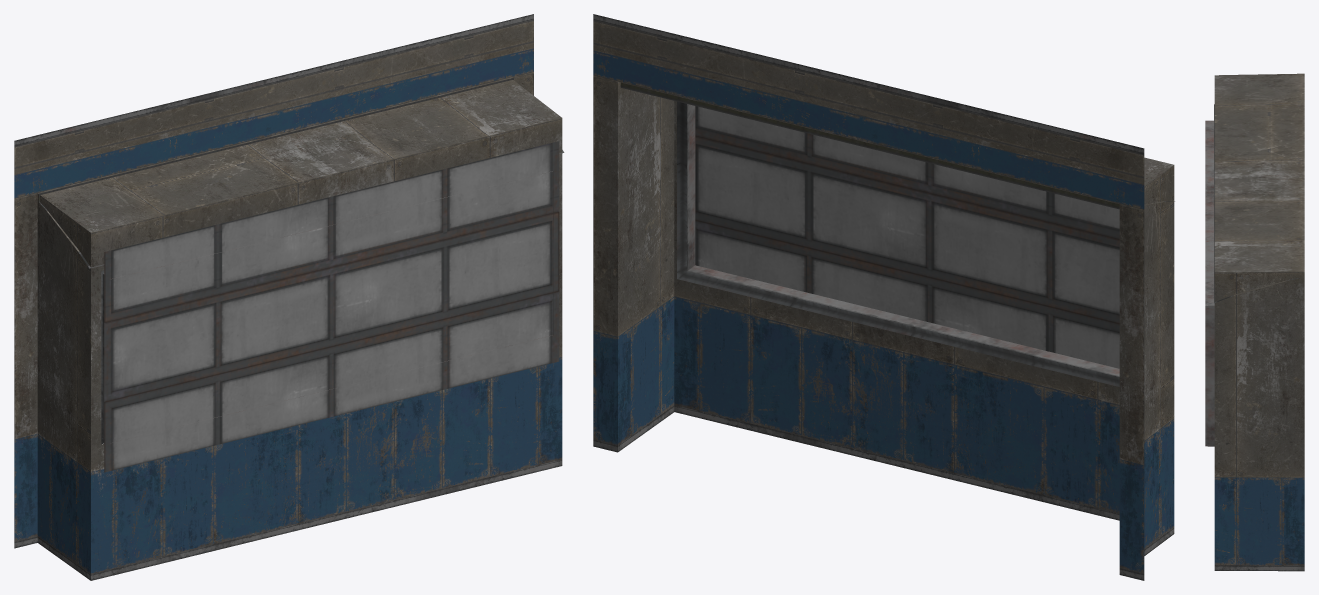
File: ARC0910273.fbx
3 renders of one model, left to right at view 1: azimuth 30°, elevation 25°; view 2: azimuth 150°, elevation 25°; view 3: azimuth 270°, elevation 25°, orthographic. The views are drawn at different scales.
Parts seen in each view (by area): view 1: smARC0910273; view 2: smARC0910273; view 3: smARC0910273.
Boxes of the visible parts, x1,y1,x2,y2 form: smARC0910273: [14, 14, 564, 580]; smARC0910273: [593, 14, 1174, 580]; smARC0910273: [1205, 73, 1304, 571].
Size of the model in its own units: 400 by 300 by 77.1.
1 material, 1 textured.
